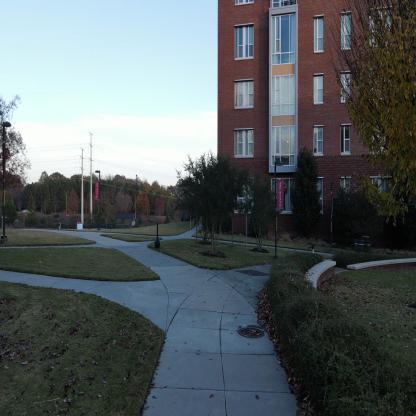Wolf Ridge: (216, 1, 416, 256)
